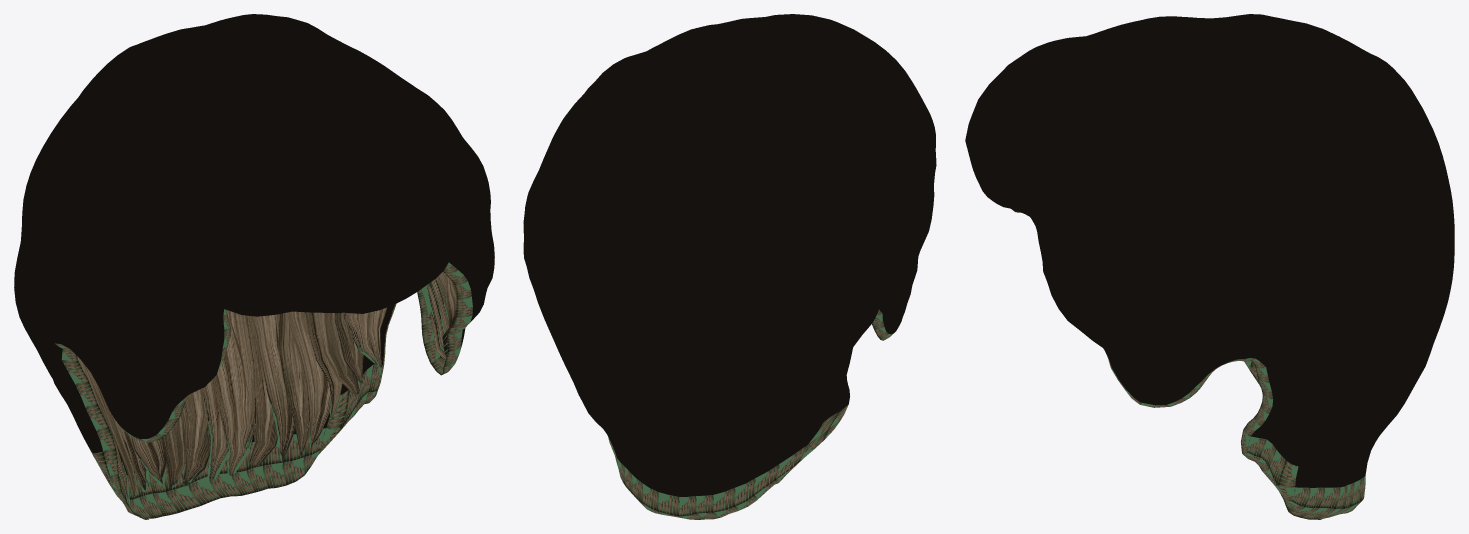
Rendered from male_kid_hair_blender.gltf.
3 renders of one model, left to right at view 1: azimuth 30°, elevation 25°; view 2: azimuth 150°, elevation 25°; view 3: azimuth 270°, elevation 25°, orthographic. The views are drawn at different scales.
Visible parts, largest first — view 1: male_kid_hair; view 2: male_kid_hair; view 3: male_kid_hair.
Part boxes in pixels (x1,y1,x2,y2): male_kid_hair: (14,14,494,519); male_kid_hair: (523,14,936,519); male_kid_hair: (965,14,1454,519).
Size of the model in its own units: 18.16 by 22.25 by 20.67.
Materials: 1 (1 with a texture image).
